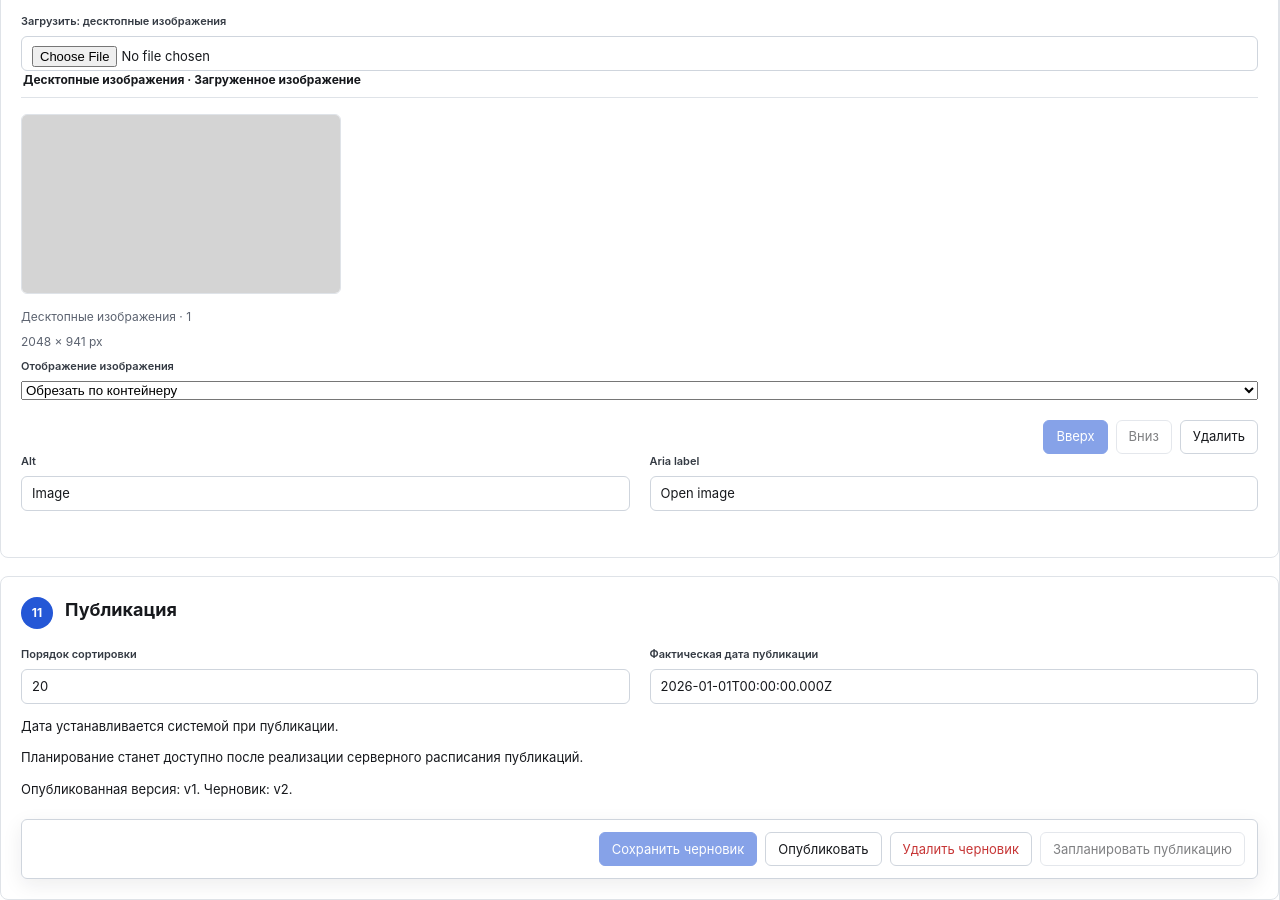
Scenario: ProjectInspector media corrective QA › accepts a valid HTTPS link for publication confirmation
(page scrolled)
Click the button "Опубликовать": point(823, 849) [765, 832, 882, 866]
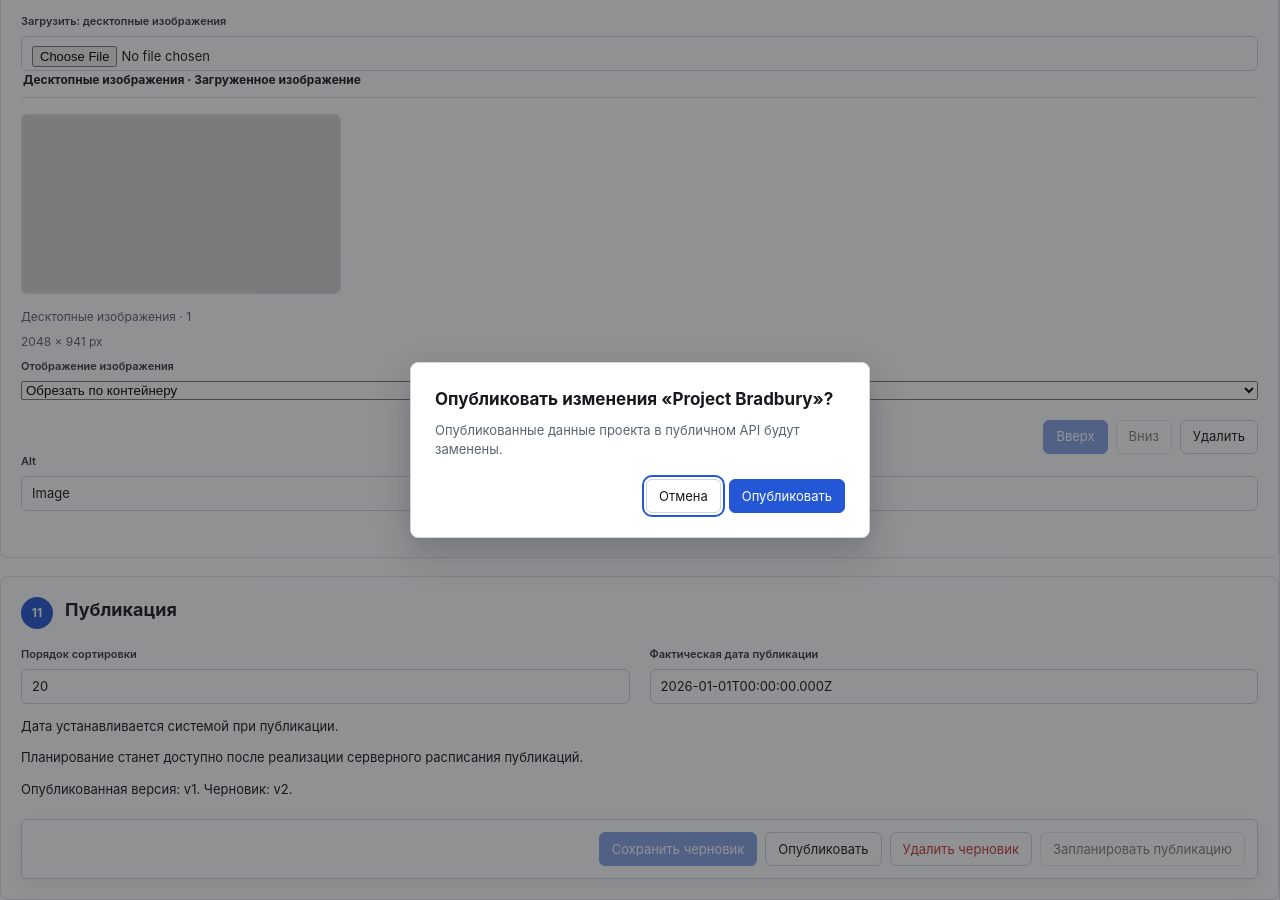
Result: the dialog "Опубликовать изменения" is shown at [410, 362, 870, 538]
